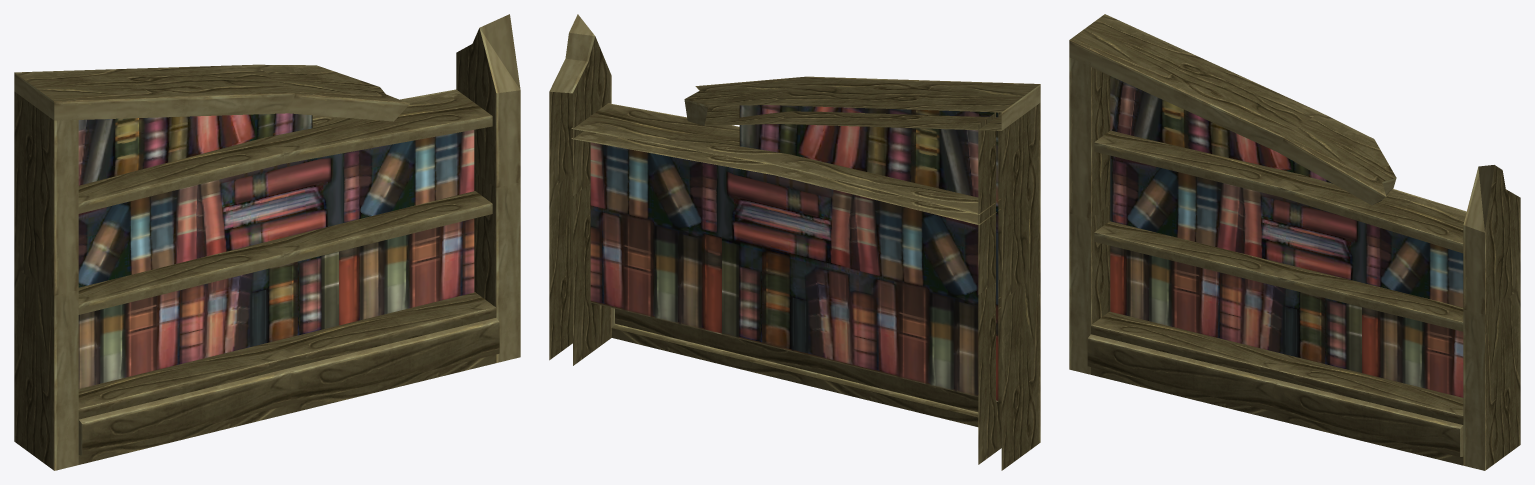
File: F_shujia003.fbx
The picture shows the model from 3 angles, left to right: view 1: azimuth 30°, elevation 25°; view 2: azimuth 150°, elevation 25°; view 3: azimuth 330°, elevation 25°; orthographic projection. The views are drawn at different scales.
Visible parts, largest first — view 1: F_shujia003; view 2: F_shujia003; view 3: F_shujia003.
Boxes of the visible parts, bbox=[...] form: F_shujia003: bbox=[14, 14, 520, 470]; F_shujia003: bbox=[549, 14, 1040, 470]; F_shujia003: bbox=[1069, 14, 1520, 470].
Bounding box in the file's own units: 269 × 204 × 43.54.
